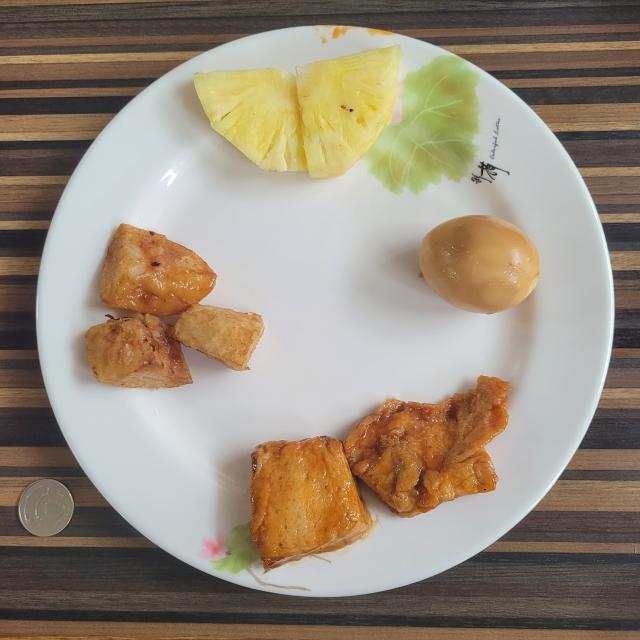coin: (19, 479, 74, 536)
creamy tofu: (251, 376, 510, 570)
fried potato: (85, 224, 264, 388)
pineapple: (194, 45, 401, 179)
soy egg: (419, 215, 540, 314)
